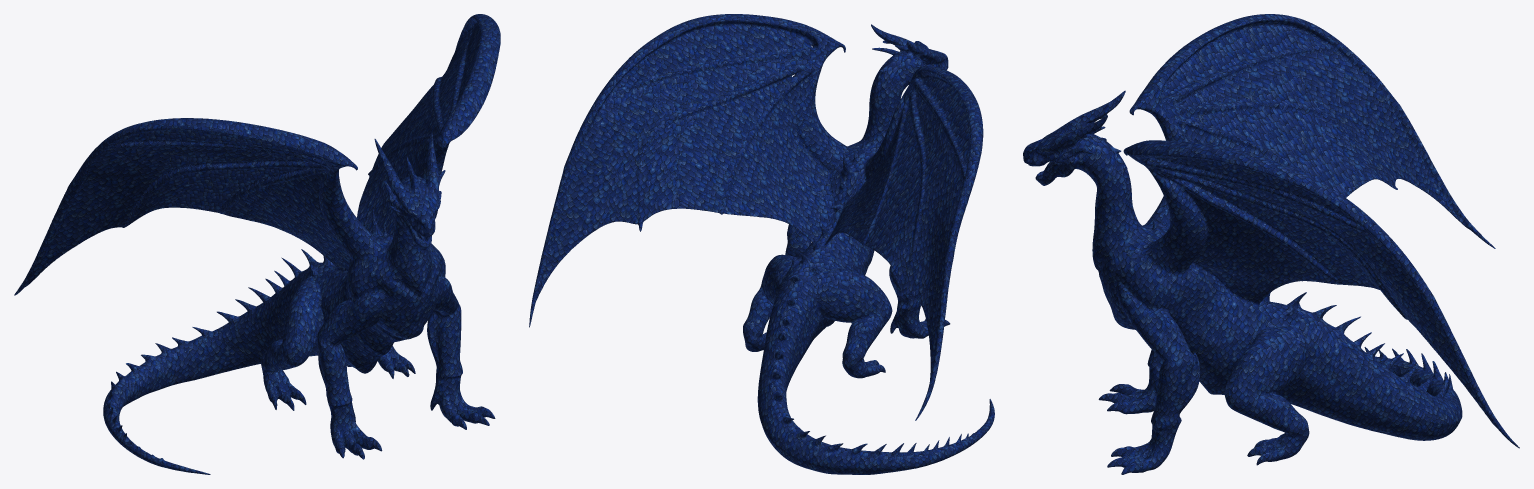
The model's file is storm_dragon_textured.fbx.
3 renders of one model, left to right at view 1: azimuth 30°, elevation 25°; view 2: azimuth 150°, elevation 25°; view 3: azimuth 270°, elevation 25°, orthographic. The views are drawn at different scales.
Visible parts, largest first — view 1: mesh_node; view 2: mesh_node; view 3: mesh_node.
Part boxes in pixels (left/top/right/bottom): mesh_node: left=14, top=14, right=500, bottom=474; mesh_node: left=529, top=14, right=994, bottom=474; mesh_node: left=1023, top=14, right=1519, bottom=474.
Size of the model in its own units: 190 by 159 by 184.
Materials: 1 (1 with a texture image).
